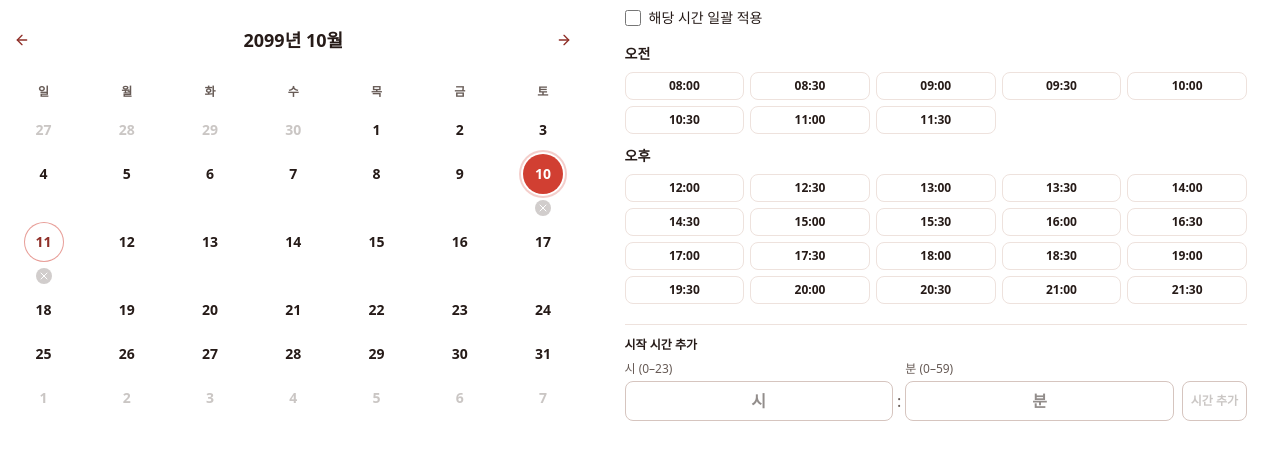
Test: schedule time cards › localizes expanded groups in ko
Expected: the element "오전" is shown, x1=624 y1=44 x2=1247 y2=134
Expected: the element "오후" is shown, x1=624 y1=146 x2=1247 y2=304
Step 1. Type "21" into the field labelled "시 (0–23)" → [759, 401], box x1=624 y1=381 x2=893 y2=421
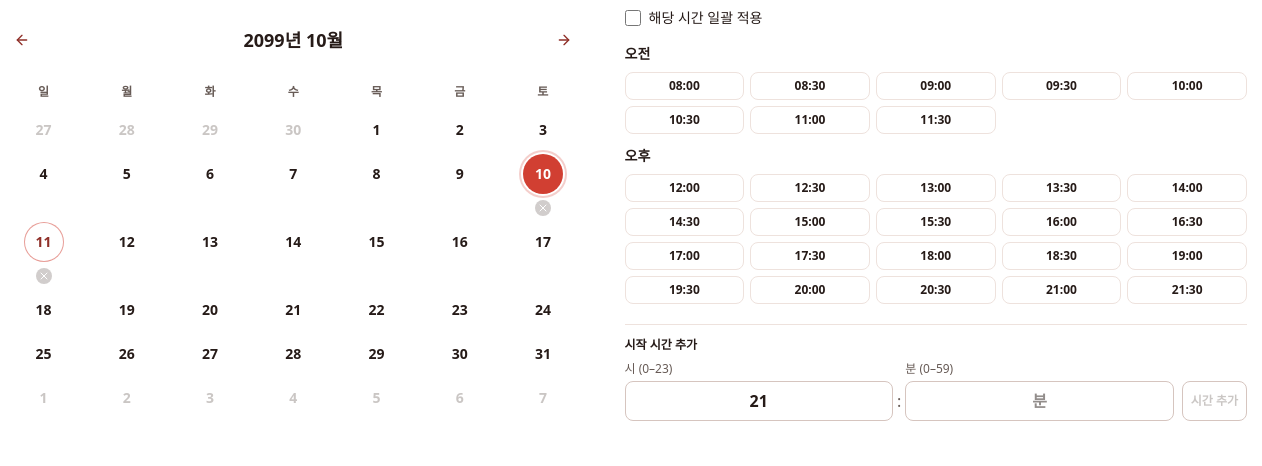
Step 2. Type "53" into the field labelled "분 (0–59)" → [1040, 401], box x1=905 y1=381 x2=1174 y2=421
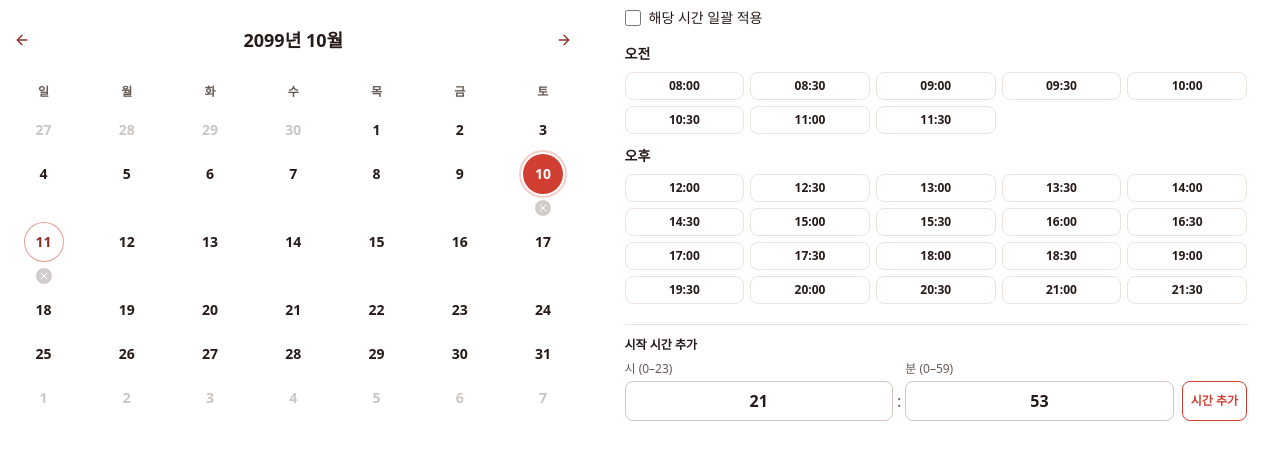
Step 3. Click the button "시간 추가" → [1214, 401], box x1=1182 y1=381 x2=1247 y2=421
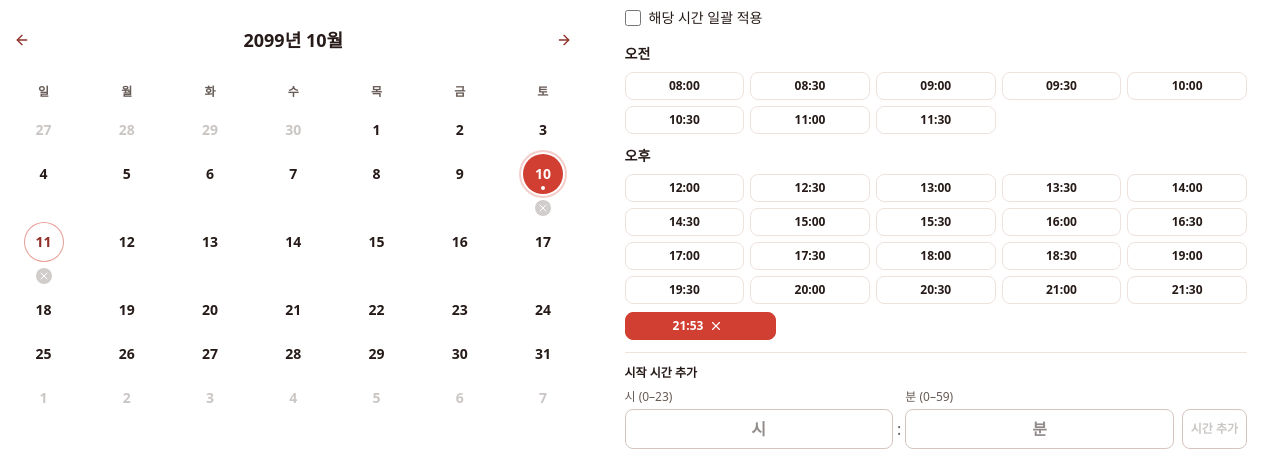
Now the element with test id "schedule-time-2099-10-10-21:53" reads "21:53", box x1=673 y1=317 x2=704 y2=334
